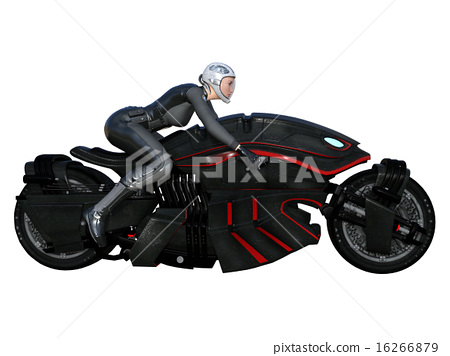helmet: (204, 58, 247, 96)
